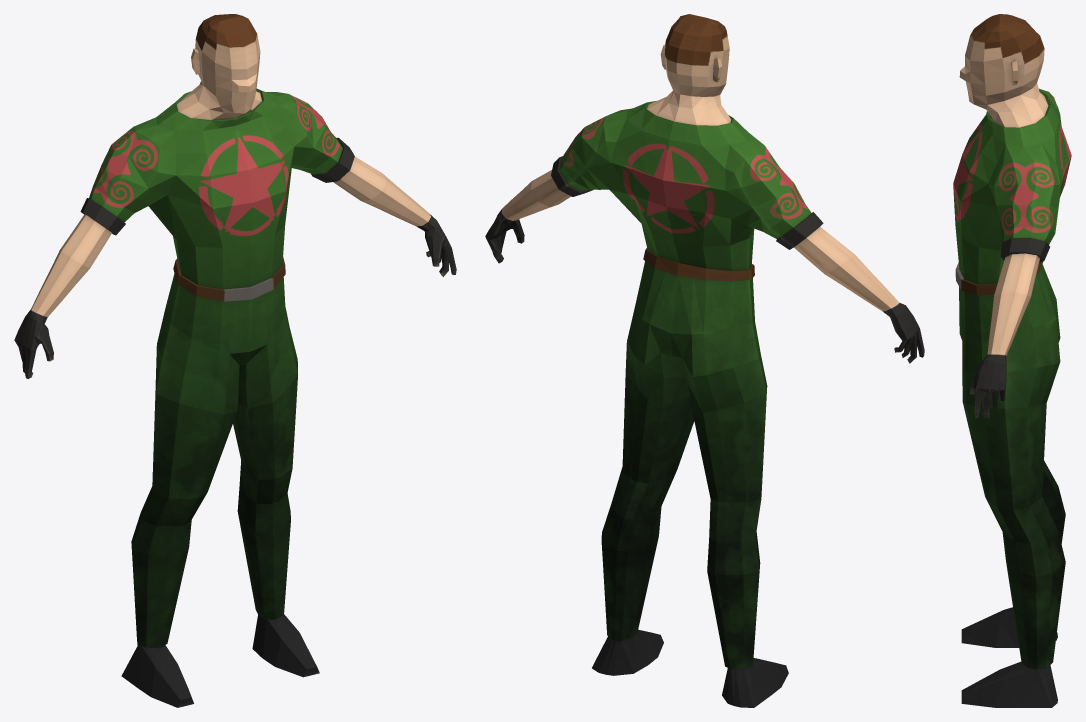
The model's file is HumenBro.fbx.
3 views of the same model, side by side, from view 1: azimuth 30°, elevation 25°; view 2: azimuth 150°, elevation 25°; view 3: azimuth 270°, elevation 25° (orthographic).
Parts seen in each view (by area): view 1: pants, jacket, torso, belt; view 2: pants, jacket, torso, belt; view 3: pants, torso, jacket, belt.
Part boxes in pixels (x1,y1,x2,y2): pants: [131, 273, 297, 647]; jacket: [89, 88, 342, 289]; torso: [14, 14, 456, 707]; belt: [173, 256, 285, 301]; pants: [601, 261, 767, 668]; jacket: [559, 101, 811, 270]; torso: [485, 14, 924, 707]; belt: [643, 248, 754, 281]; pants: [959, 264, 1065, 669]; torso: [959, 14, 1057, 707]; jacket: [953, 88, 1071, 284]; belt: [955, 261, 1043, 295].
Size of the model in its own units: 186 by 271 by 44.86.
